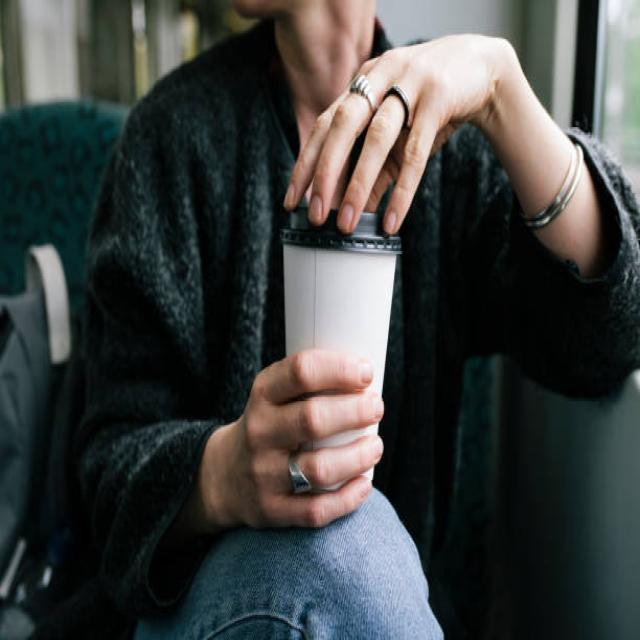cup: (280, 204, 402, 494)
